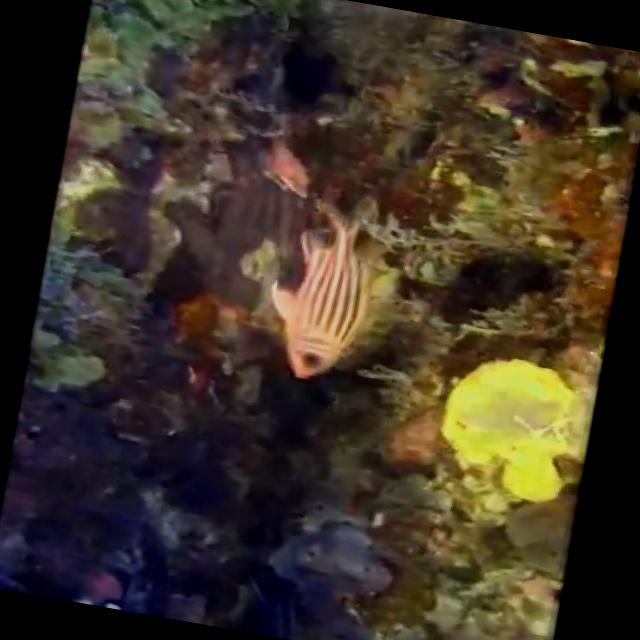Asker Baligi: (252, 193, 386, 390)
